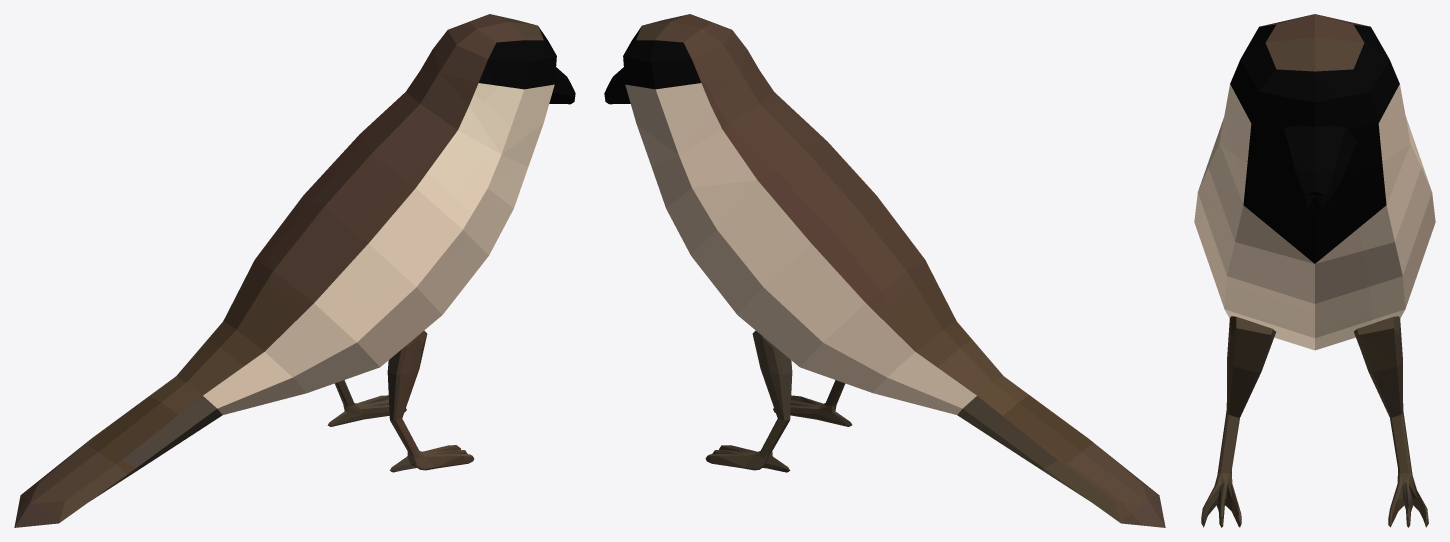
The model's file is 70zu6VzQmL4.glb.
3 renders of one model, left to right at view 1: azimuth 30°, elevation 25°; view 2: azimuth 150°, elevation 25°; view 3: azimuth 270°, elevation 25°, orthographic. The views are drawn at different scales.
Visible parts, largest first — view 1: Cube.000_Cube.003; view 2: Cube.000_Cube.003; view 3: Cube.000_Cube.003.
Boxes of the visible parts, x1,y1,x2,y2 form: Cube.000_Cube.003: [14, 14, 575, 527]; Cube.000_Cube.003: [604, 14, 1165, 527]; Cube.000_Cube.003: [1194, 14, 1435, 527].
Size of the model in its own units: 1.48 by 1 by 0.4013.
1 material, 1 textured.
